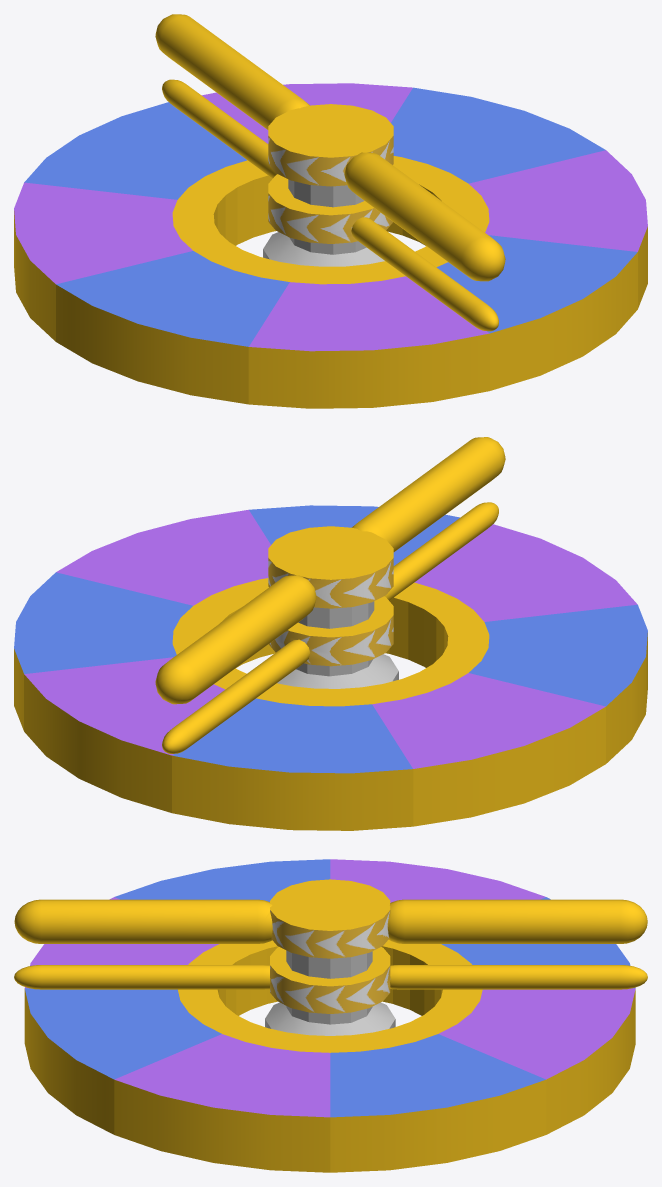
Rendered from Jump_ShowDown.fbx.
3 renders of one model, top to bottom at view 1: azimuth 30°, elevation 25°; view 2: azimuth 150°, elevation 25°; view 3: azimuth 270°, elevation 25°, orthographic. The views are drawn at different scales.
Visible parts, largest first — view 1: Plane05, Plane06, Cylinder_up, Plane04, Plane07, Plane00, Plane03, Plane02, Cylinder_down, column, Plane01; view 2: Plane00, Plane07, Cylinder_up, Plane01, Plane06, Plane05, Plane02, Plane03, Cylinder_down, column, Plane04; view 3: Cylinder_up, Plane03, Plane02, Plane04, Plane01, Cylinder_down, Plane06, Plane07, Plane05, Plane00, column.
Boxes of the visible parts, x1,y1,x2,y2 form: Plane05: (248,261,489,408); Plane06: (56,242,300,404); Cylinder_up: (155,14,505,281); Plane04: (415,235,637,390); Plane07: (14,182,228,341); Plane00: (24,102,272,245); Plane03: (432,150,647,308); Plane02: (386,87,605,245); Cylinder_down: (162,79,498,331); column: (263,179,384,266); Plane01: (202,83,412,231); Plane00: (172,683,413,830); Plane07: (361,664,605,826); Cylinder_up: (155,437,505,704); Plane01: (24,657,246,812); Plane06: (433,604,647,763); Plane05: (389,524,637,667); Plane02: (14,572,229,730); Plane03: (56,509,275,667); Cylinder_down: (162,502,498,753); column: (277,601,398,688); Plane04: (249,505,459,653); Cylinder_up: (14,879,647,958); Plane03: (114,1022,330,1172); Plane02: (330,1022,546,1172); Plane04: (24,988,249,1134); Plane01: (410,988,635,1134); Cylinder_down: (14,947,647,1013); Plane06: (115,859,330,1009); Plane07: (330,859,545,1009); Plane05: (25,897,250,1015); Plane00: (410,897,635,1015); column: (265,950,395,1035).
Size of the model in its own units: 2540 by 652 by 2635.
